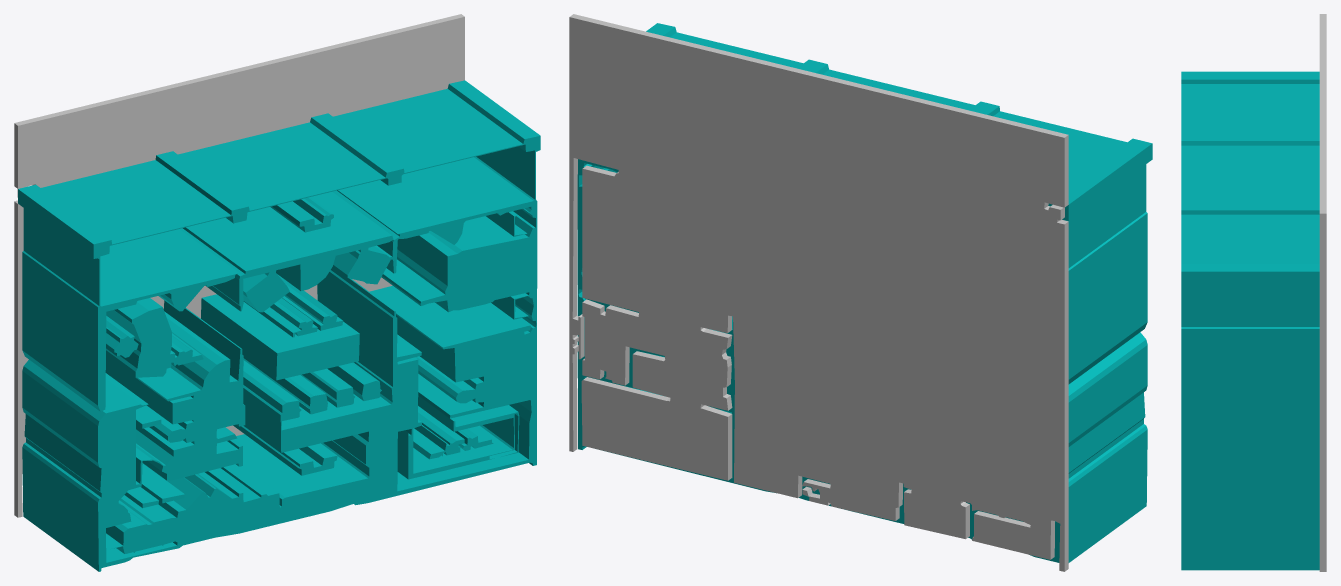
The picture shows the model from 3 angles, left to right: view 1: azimuth 30°, elevation 25°; view 2: azimuth 150°, elevation 25°; view 3: azimuth 270°, elevation 25°; orthographic projection. The views are drawn at different scales.
Visible parts, largest first — view 1: world; view 2: world; view 3: world.
Part boxes in pixels (x1,y1,x2,y2): world: [14, 14, 540, 571]; world: [569, 14, 1152, 571]; world: [1181, 14, 1326, 571].
Size of the model in its own units: 10.23 by 8.57 by 3.15.
